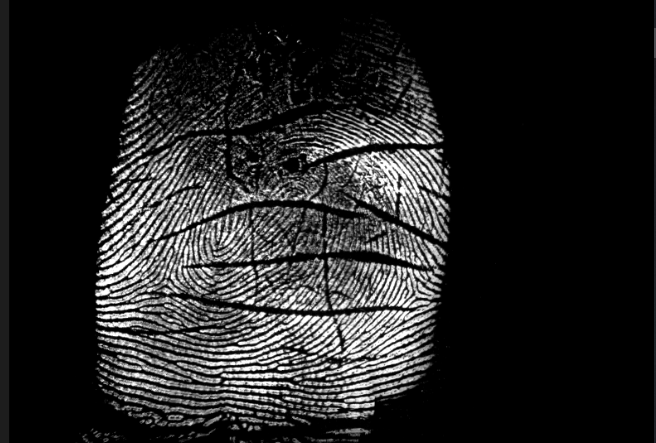nucelo: (203, 215, 237, 251)
verticilo: (152, 270, 180, 295), (403, 282, 431, 304)
